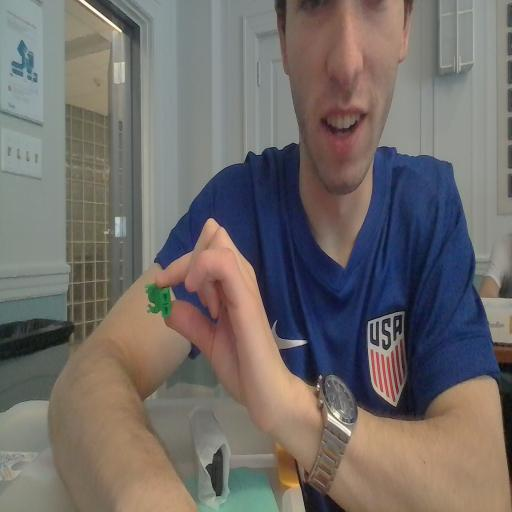green LEGO minifig: (143, 280, 172, 319)
